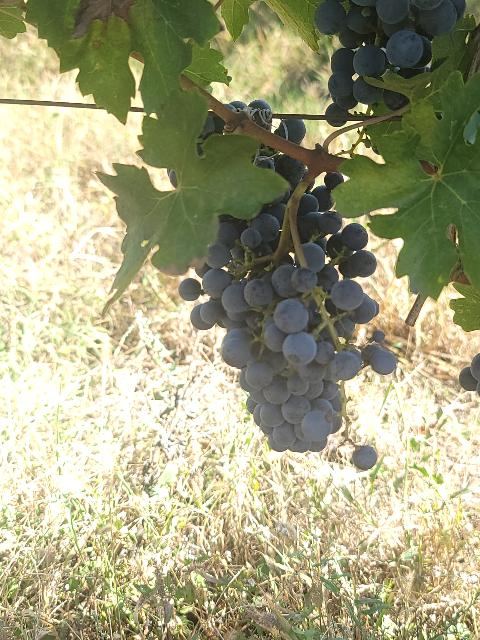grapes: (191, 172, 396, 452), (315, 0, 465, 79), (329, 50, 408, 110)
